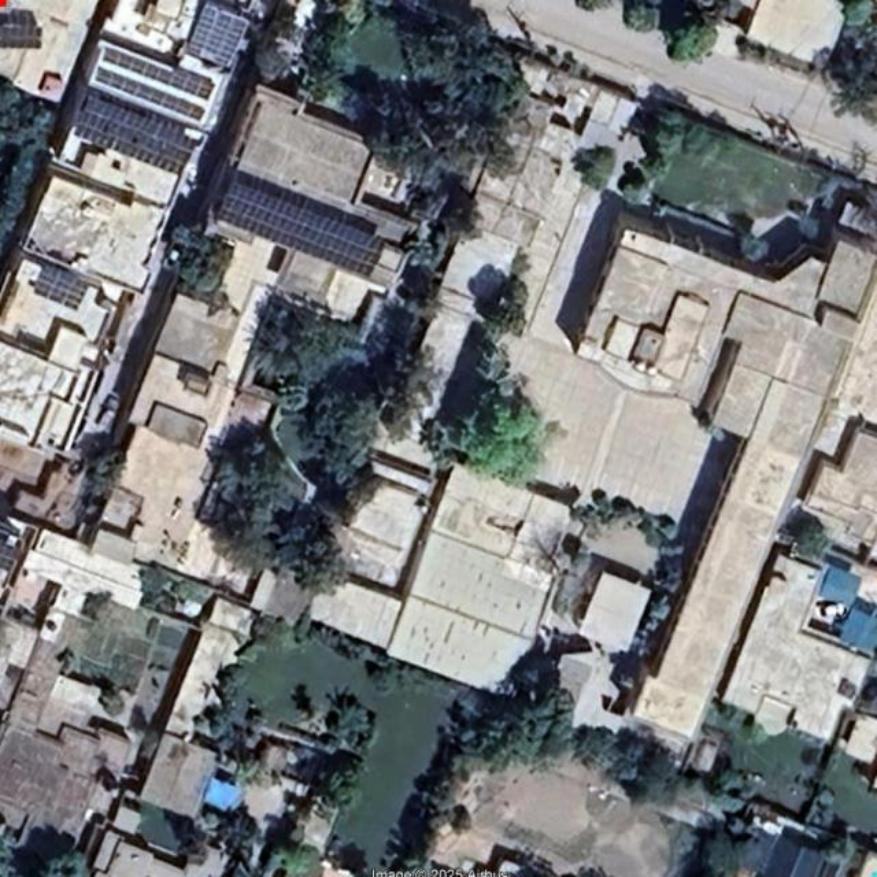Solarpanel: (216, 179, 387, 276), (74, 94, 200, 174), (102, 46, 215, 101), (96, 67, 204, 122), (187, 2, 252, 67), (34, 262, 89, 307), (0, 27, 42, 47)
